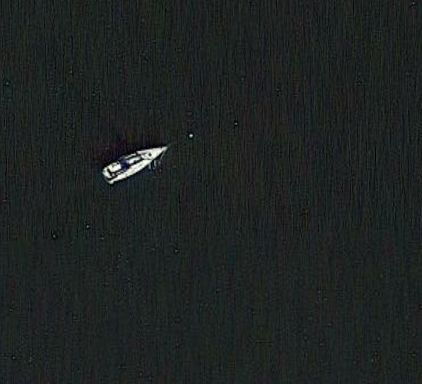boat: (101, 143, 173, 186)
